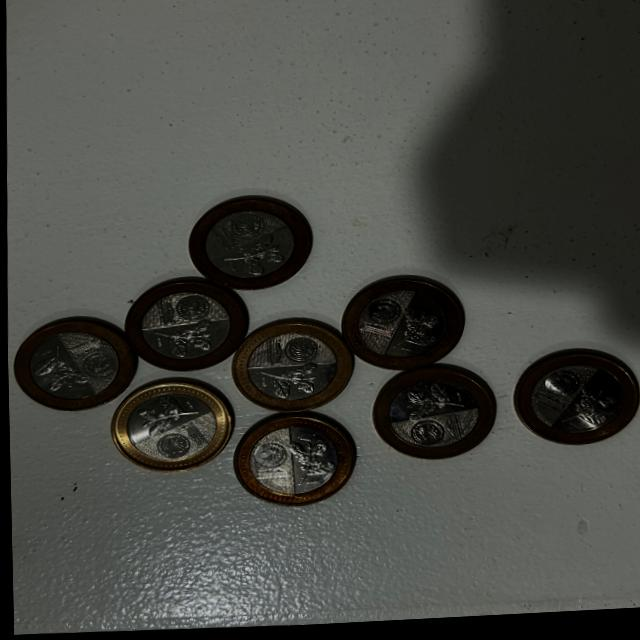20_New_Back: (388, 388, 471, 428), (145, 321, 224, 362), (29, 345, 88, 397), (385, 308, 443, 360), (555, 388, 615, 438), (130, 396, 197, 440), (285, 433, 335, 488), (220, 236, 282, 279), (255, 363, 320, 403)
